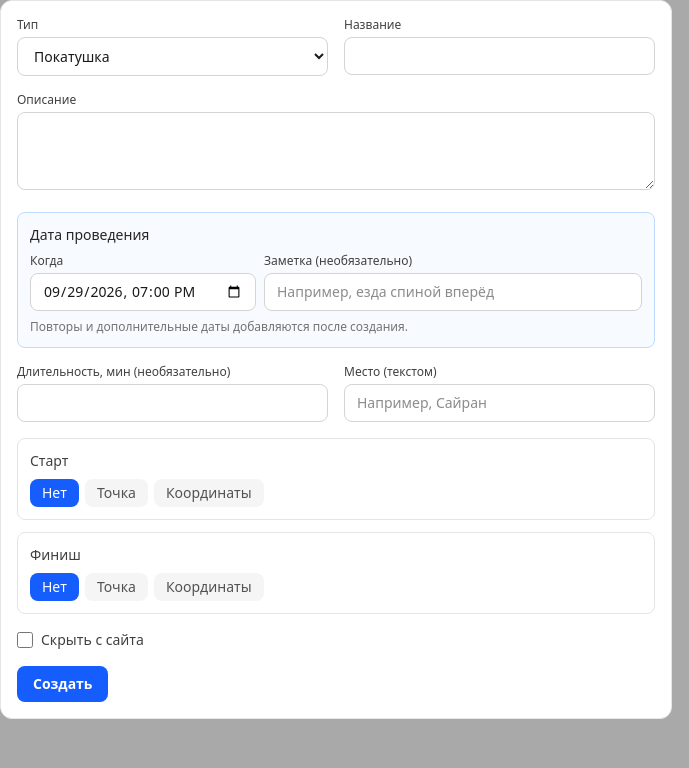
Test case: EventForm — первая дата при создании › без даты не отправляет форму и показывает ошибку
Type "Покатушка" into the field labelled "Название" at x=500, y=56, box top-left (344, 37), bottom-right (655, 75)
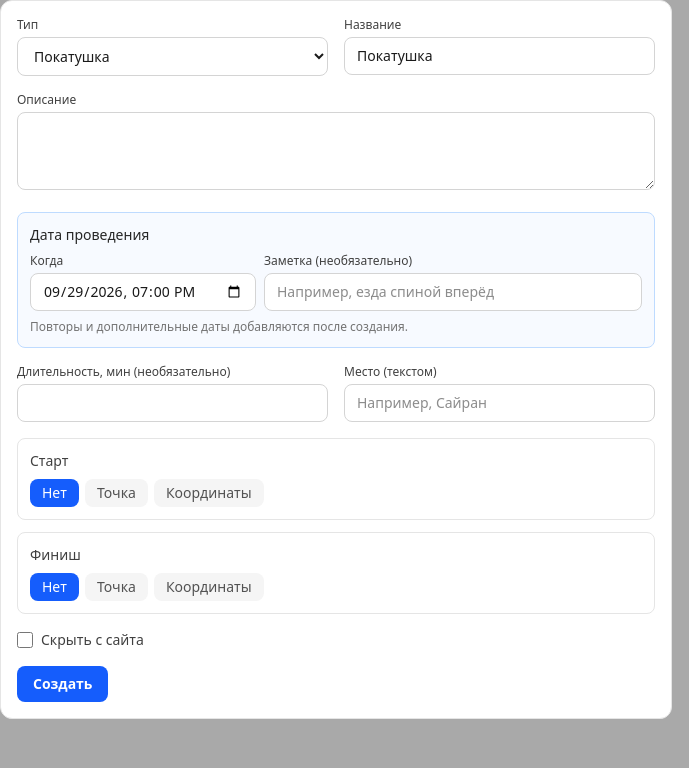
Clear the field labelled "Когда" at x=143, y=292, box top-left (30, 273), bottom-right (256, 311)
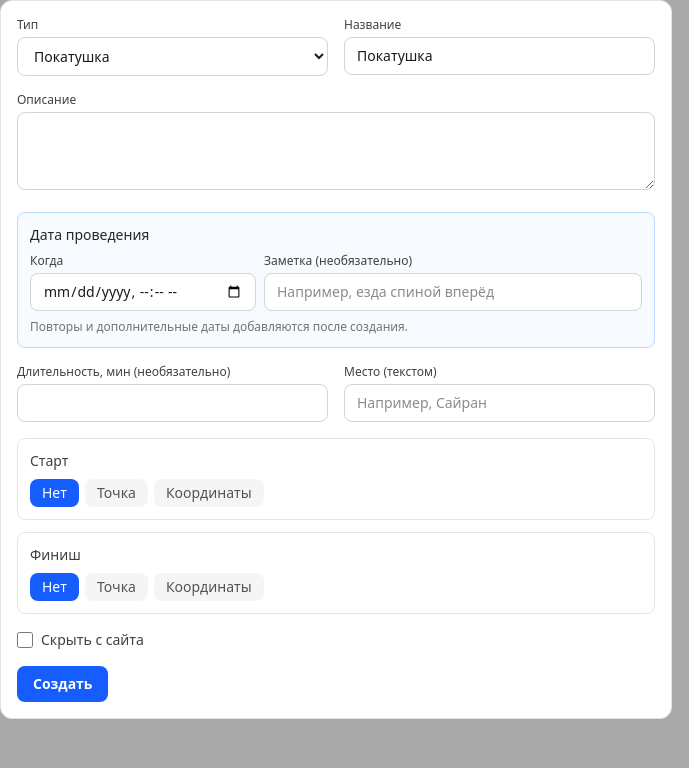
Click the button "Создать" at x=63, y=684, box top-left (17, 666), bottom-right (108, 702)
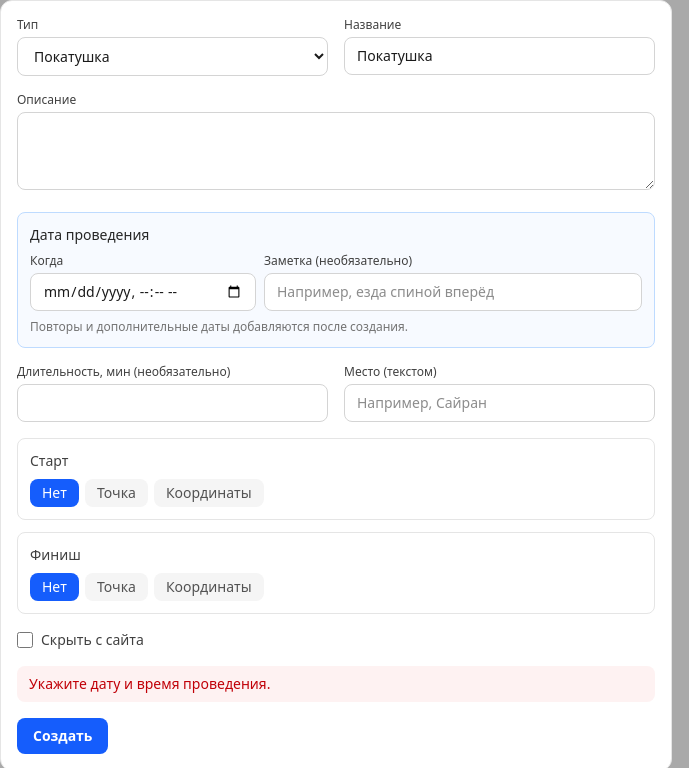
Expected: the text "Укажите дату и время проведения." is shown, top-left (17, 666), bottom-right (655, 702)
